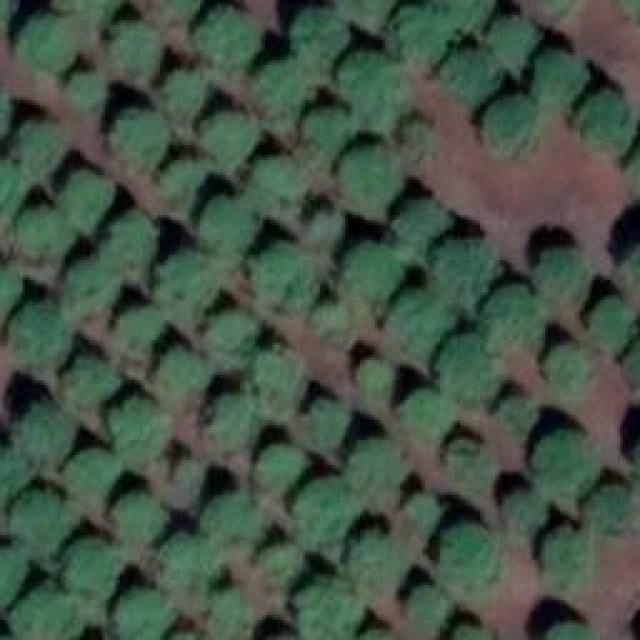Tree: (423, 235, 508, 308), (538, 430, 601, 505), (100, 210, 163, 283), (448, 525, 508, 600), (343, 237, 406, 305), (530, 247, 593, 315), (255, 243, 320, 308), (342, 64, 410, 125), (473, 290, 538, 353), (158, 258, 218, 323), (573, 88, 633, 153), (113, 398, 168, 468), (108, 108, 168, 171), (252, 65, 310, 130), (388, 10, 453, 68), (305, 575, 363, 640), (342, 145, 400, 208), (15, 490, 73, 553), (15, 590, 88, 640), (293, 8, 353, 68), (18, 408, 78, 468), (530, 45, 590, 105), (203, 493, 263, 553), (158, 535, 218, 595), (200, 10, 260, 68), (480, 100, 540, 158), (295, 483, 350, 546), (22, 12, 80, 70), (65, 537, 123, 595), (437, 345, 495, 403), (350, 442, 408, 500), (390, 195, 453, 248), (112, 587, 175, 640), (388, 303, 448, 358), (250, 348, 300, 413), (203, 112, 258, 170), (60, 265, 115, 323), (255, 440, 308, 500), (450, 438, 498, 503), (545, 528, 593, 593), (60, 170, 113, 228), (15, 307, 68, 365), (62, 448, 120, 501), (200, 195, 255, 250), (298, 113, 348, 173), (545, 340, 595, 400), (155, 350, 208, 405), (112, 22, 160, 80), (108, 313, 163, 363), (393, 398, 448, 448), (350, 530, 400, 585), (590, 300, 640, 355), (585, 483, 635, 538), (65, 360, 115, 413), (20, 123, 68, 178), (255, 155, 303, 210), (20, 210, 70, 260), (490, 15, 538, 65), (210, 310, 258, 360), (115, 492, 165, 540), (160, 163, 205, 216), (308, 400, 353, 453), (160, 70, 208, 118), (450, 50, 498, 98), (208, 398, 253, 448), (403, 585, 448, 633), (212, 585, 250, 640), (0, 153, 28, 223), (507, 490, 545, 538), (255, 550, 300, 590), (65, 0, 128, 28), (0, 545, 28, 608), (350, 355, 390, 398), (68, 73, 108, 113), (435, 0, 498, 25), (0, 455, 25, 518), (173, 458, 208, 503), (308, 210, 348, 248), (310, 303, 348, 343), (405, 490, 443, 530), (505, 395, 543, 430), (342, 0, 400, 20), (405, 120, 438, 153), (0, 265, 20, 318), (159, 0, 202, 22), (545, 625, 598, 640), (612, 0, 640, 28), (450, 625, 498, 640), (540, 0, 580, 15)
